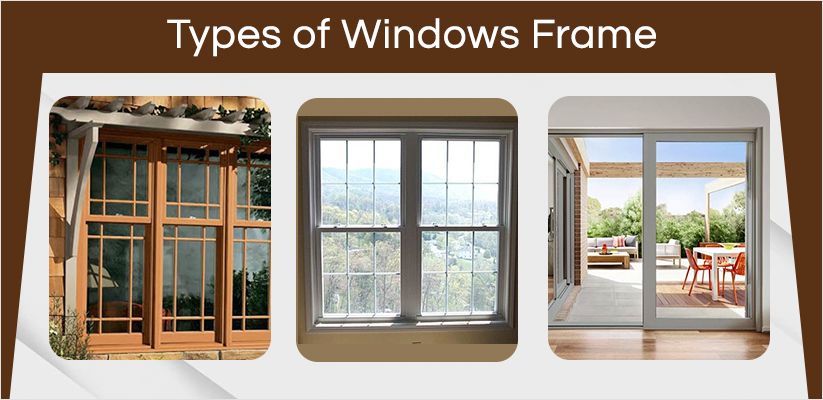Window: (297, 117, 516, 329), (546, 128, 762, 327), (80, 134, 273, 335)
